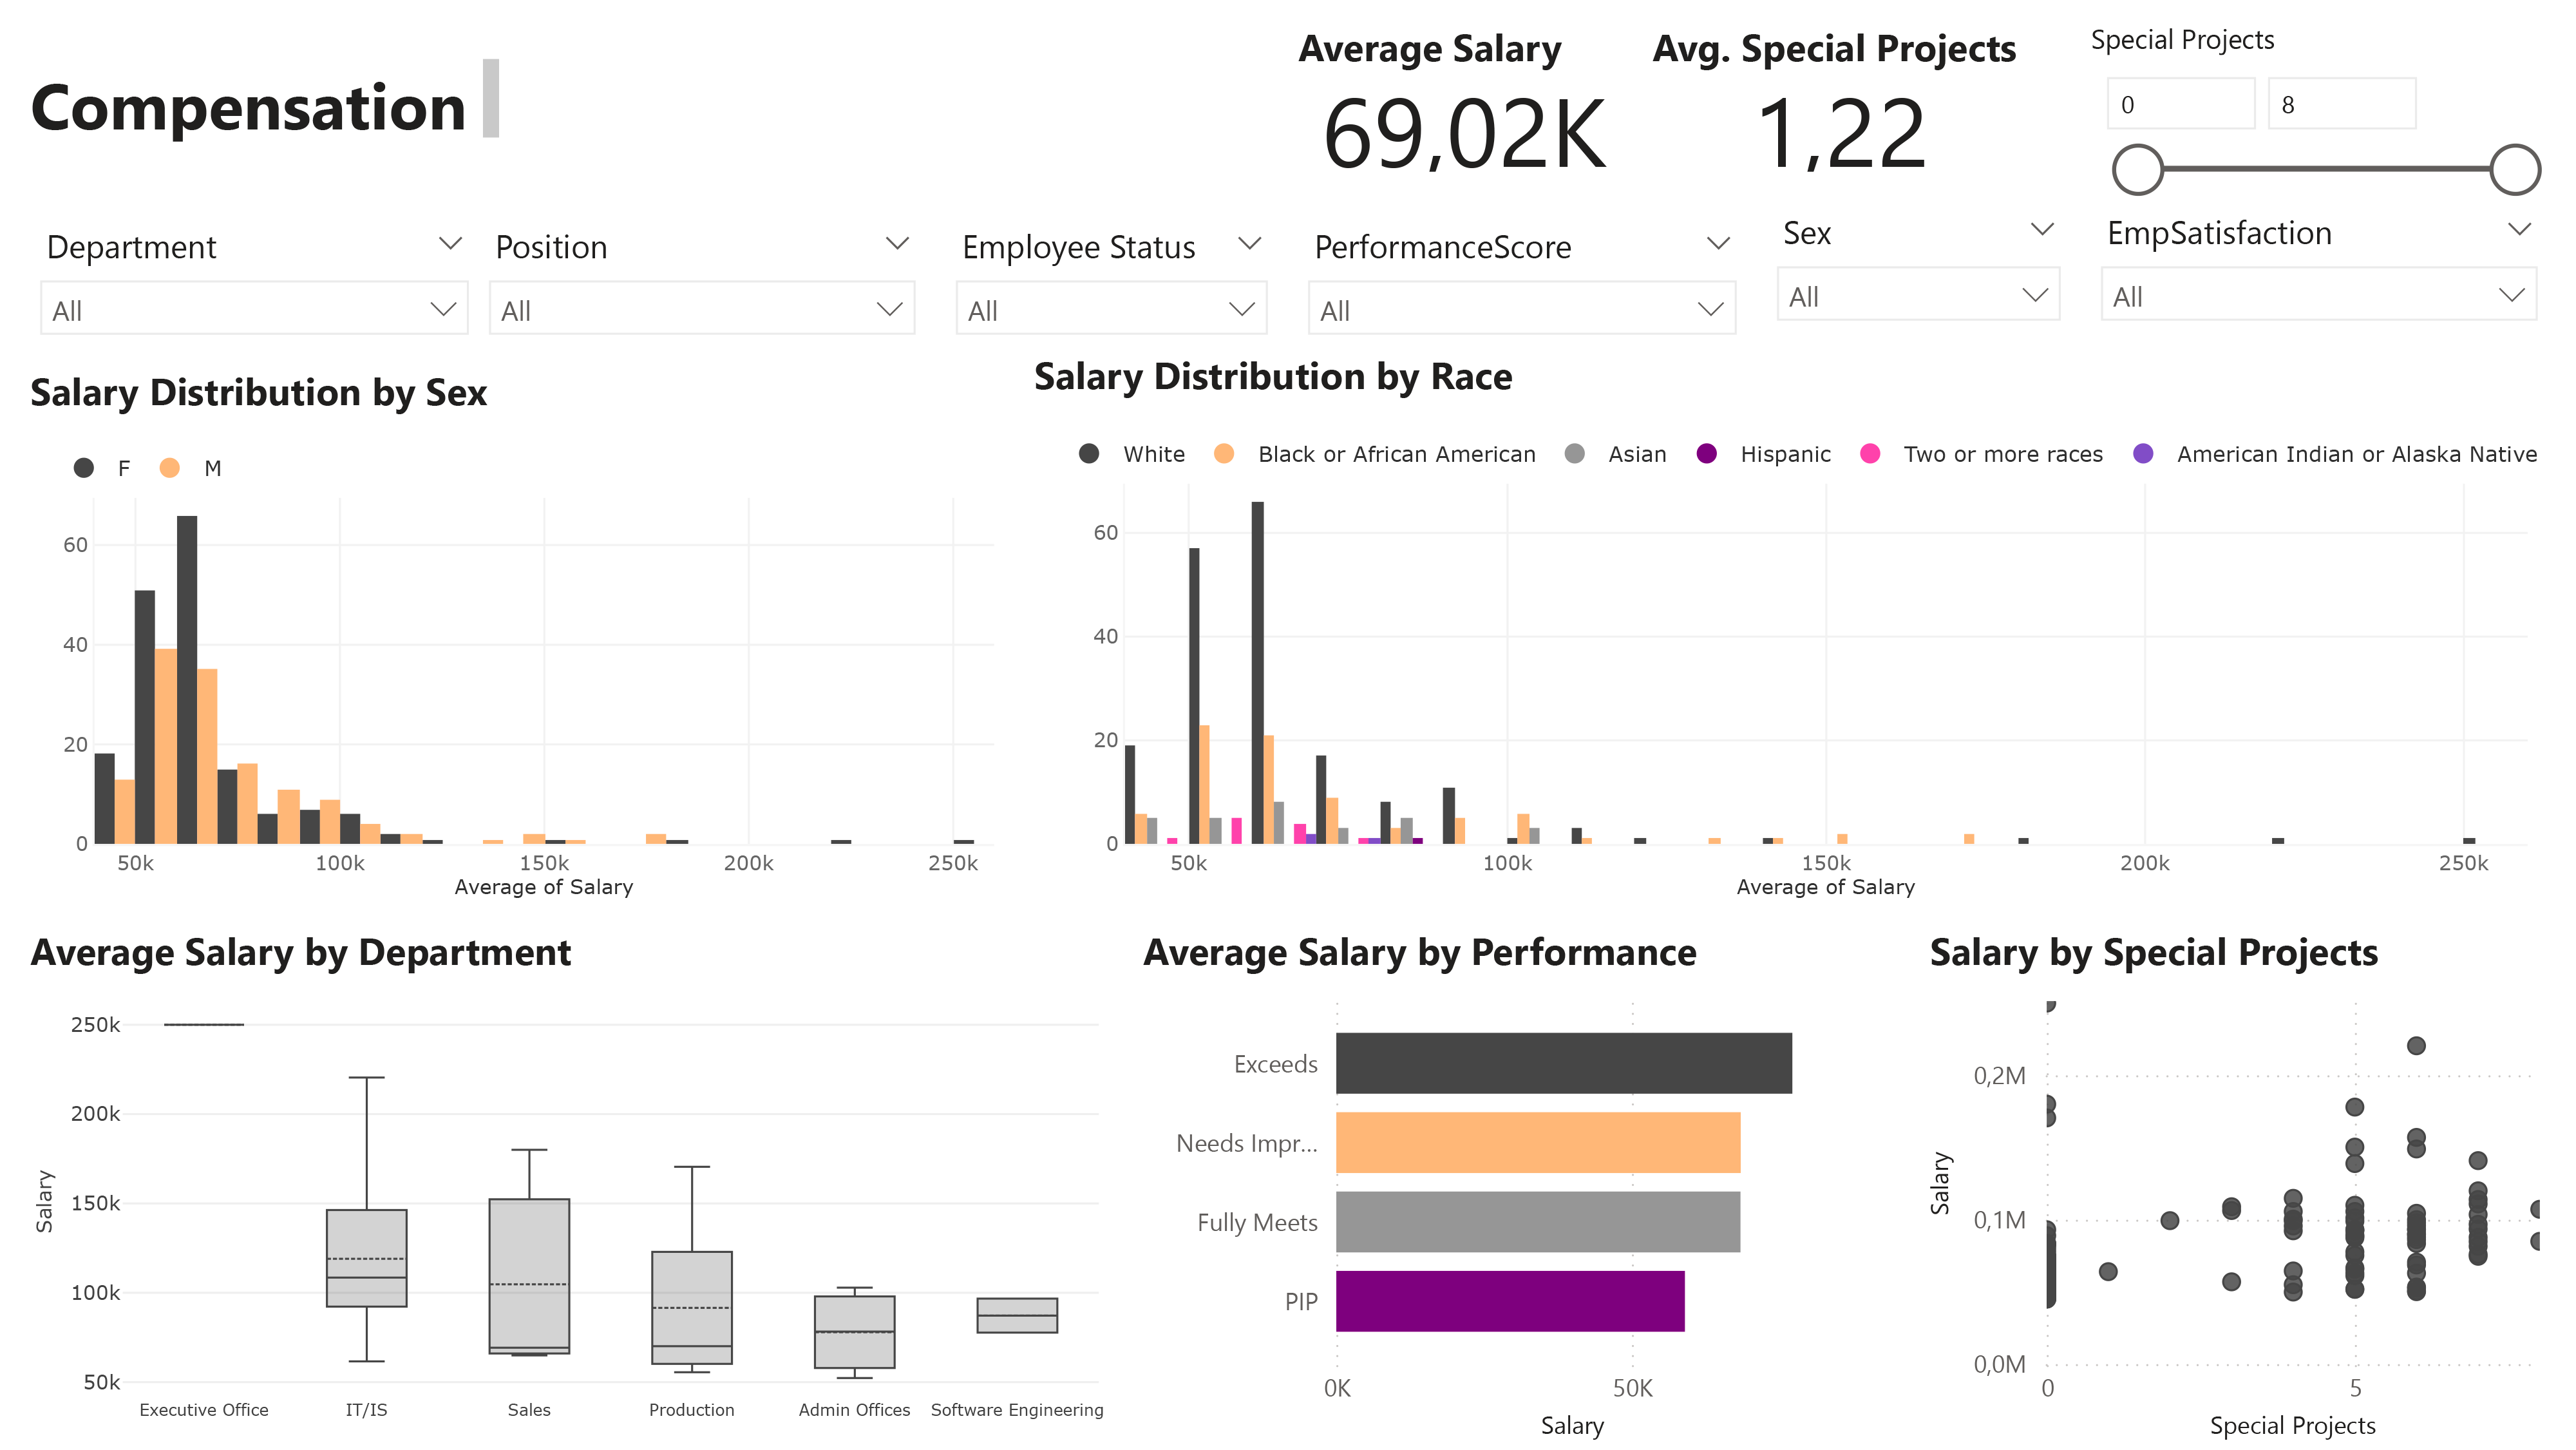

The dashboard page shown, as its layout file describes it:
{"tool":"powerbi","page":{"name":"Compensation","canvas":[1280,720],"ordinal":2},"visuals":[{"type":"boxandwhiskerwithpoints3B3DF5C11B683E5DB4E630DD7899B035","title":"Average Salary by Department","fields":{"col_0":["Jobs.Department"],"col_2":["Avg(Employees.Salary)"],"col_3":["Jobs.Position"]},"box":[10.4,458.9,552.7,260.7],"z":0},{"type":"scatterChart","title":"Salary by Special Projects","fields":{"Category":["Employees.EmpID"],"Y":["Avg(Employees.Salary)"],"X":["Sum(Performance.SpecialProjectsCount)"]},"box":[953.6,458.9,317.5,260.7],"z":1000},{"type":"histogram7D0E580F1FEB4DDA901A6D8146EA6387","title":"Salary Distribution by Race","fields":{"col_4":["Avg(Employees.Salary)"],"col_3":["Employees.EmpID"],"col_1":["Demographics.RaceDesc"]},"box":[508.7,172.7,762.4,286.2],"z":2000},{"type":"clusteredBarChart","title":"Average Salary by Performance","fields":{"Y":["Avg(Employees.Salary)"],"Category":["Performance.PerformanceScore"]},"box":[563.1,458.9,351.1,260.7],"z":3000},{"type":"card","title":"Average Salary","fields":{"Values":["Avg(Employees.Salary)"]},"box":[640,10,175,80],"z":4000},{"type":"slicer","fields":{"Values":["Jobs.Department"]},"box":[10,106.2,232.5,73.8],"z":5000},{"type":"slicer","fields":{"Values":["Jobs.Position"]},"box":[232.5,106.2,232.5,60],"z":6000},{"type":"slicer","fields":{"Values":["Demographics.Sex"]},"box":[872.5,98.8,161.2,73.8],"z":7000},{"type":"slicer","fields":{"Values":["Performance.EmpSatisfaction"]},"box":[1033.8,98.8,237.5,73.8],"z":8000},{"type":"slicer","title":"Special Projects","fields":{"Values":["Performance.SpecialProjectsCount"]},"box":[1033.6,10.4,237.5,96.2],"z":9000},{"type":"slicer","fields":{"Values":["Performance.PerformanceScore"]},"box":[640,106.2,232.5,60],"z":10000},{"type":"slicer","fields":{"Values":["EmploymentStatus.Employee Status"]},"box":[465,106.2,175,60],"z":11000},{"type":"card","title":"Avg. Special Projects","fields":{"Values":["Avg(Performance.SpecialProjectsCount)"]},"box":[816.2,10,196.2,80],"z":12000},{"type":"textbox","box":[10,23.8,242.5,51.2],"z":13000},{"type":"histogram7D0E580F1FEB4DDA901A6D8146EA6387","title":"Salary Distribution by Sex","fields":{"col_4":["Avg(Employees.Salary)"],"col_3":["Employees.EmpID"],"col_1":["Demographics.Sex"]},"box":[10.4,180.8,498.3,278.1],"z":14000}]}

Visuals, with their boxes in screenshot pixels (x1, y1, x2, y2), scaled from the page's 1280x720 canvas onto the 2576x1450 screenshot:
"Average Salary by Department" boxandwhiskerwithpoints3B3DF5C11B683E5DB4E630DD7899B035: (21,924,1133,1449)
"Salary by Special Projects" scatterChart: (1919,924,2558,1449)
"Salary Distribution by Race" histogram7D0E580F1FEB4DDA901A6D8146EA6387: (1024,348,2558,924)
"Average Salary by Performance" clusteredBarChart: (1133,924,1840,1449)
"Average Salary" card: (1288,20,1640,181)
slicer - Jobs.Department: (20,214,488,363)
slicer - Jobs.Position: (468,214,936,335)
slicer - Demographics.Sex: (1756,199,2080,348)
slicer - Performance.EmpSatisfaction: (2081,199,2559,348)
"Special Projects" slicer: (2080,21,2558,215)
slicer - Performance.PerformanceScore: (1288,214,1756,335)
slicer - EmploymentStatus.Employee Status: (936,214,1288,335)
"Avg. Special Projects" card: (1643,20,2038,181)
textbox: (20,48,508,151)
"Salary Distribution by Sex" histogram7D0E580F1FEB4DDA901A6D8146EA6387: (21,364,1024,924)
